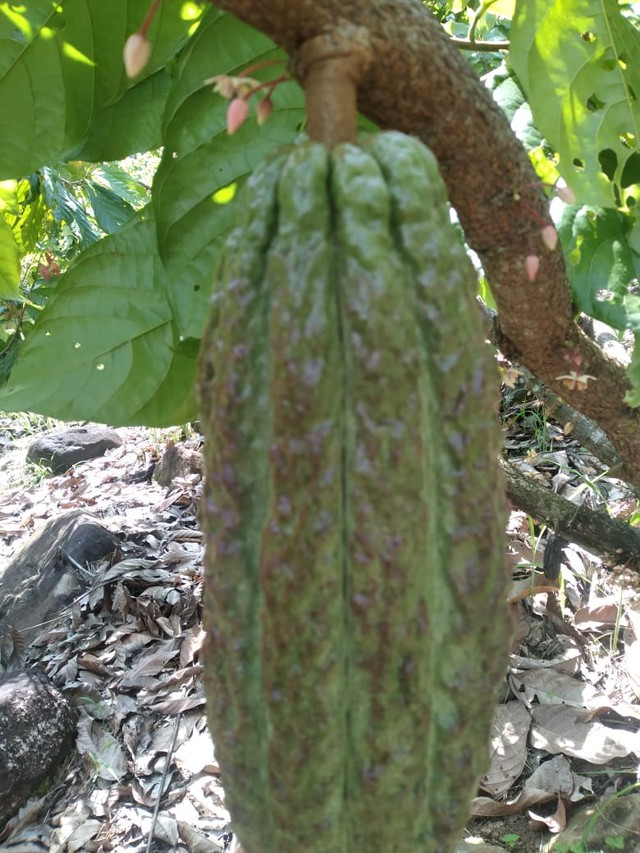Health: (149, 105, 535, 853)
